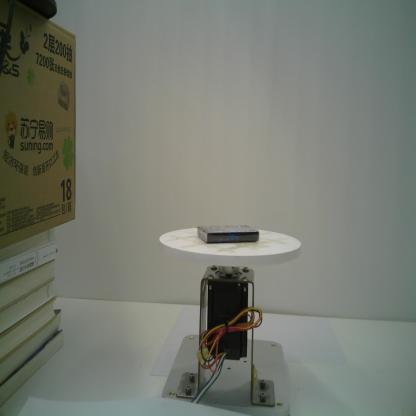Gum: (196, 223, 261, 245)
